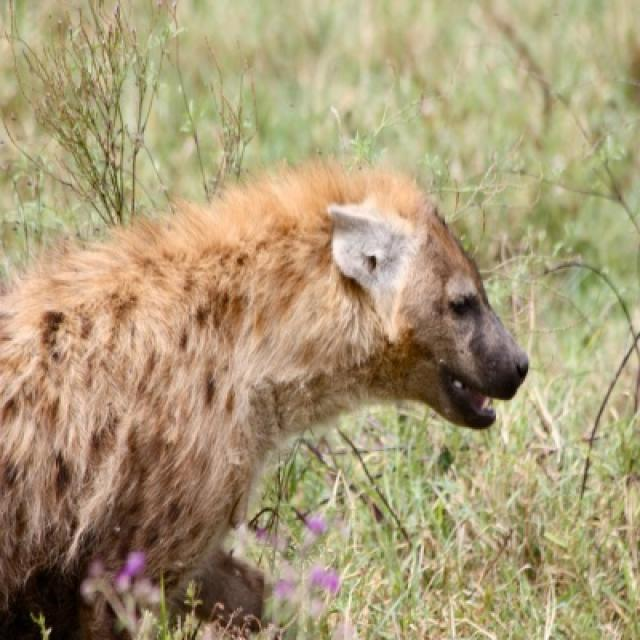hyena: (0, 160, 530, 638)
